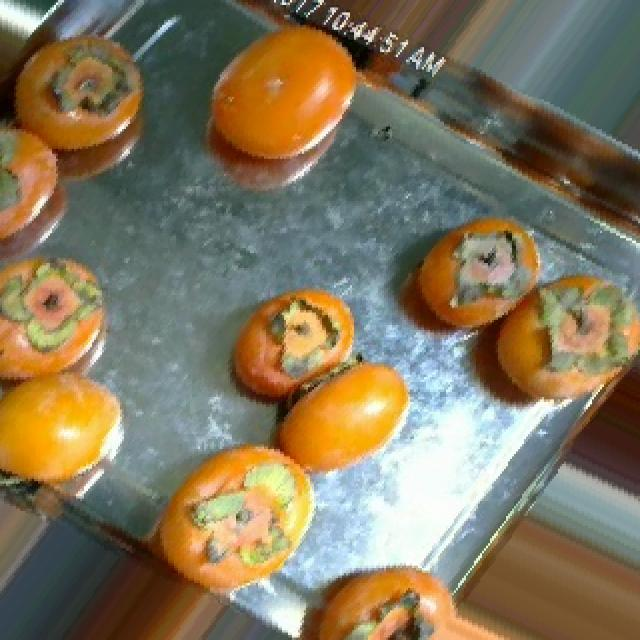Fruit: (186, 0, 384, 223), (258, 338, 428, 498), (0, 342, 142, 528), (212, 270, 370, 430), (544, 340, 640, 536), (0, 459, 84, 623)
